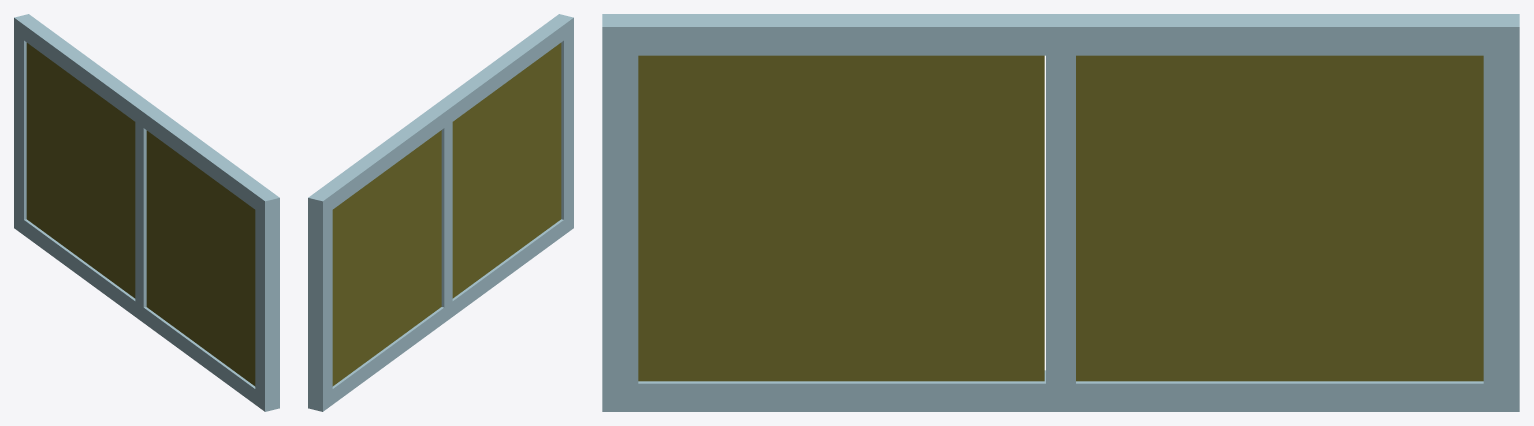
File: Bedroom_2_Window.fbx
The picture shows the model from 3 angles, left to right: view 1: azimuth 30°, elevation 25°; view 2: azimuth 150°, elevation 25°; view 3: azimuth 270°, elevation 25°; orthographic projection. The views are drawn at different scales.
Parts seen in each view (by area): view 1: Bedroom_2_Window; view 2: Bedroom_2_Window; view 3: Bedroom_2_Window.
Part boxes in pixels (bbox=[...]): Bedroom_2_Window: bbox=[14, 14, 279, 411]; Bedroom_2_Window: bbox=[308, 14, 573, 411]; Bedroom_2_Window: bbox=[602, 14, 1519, 411].
Bounding box in the file's own units: 11.96 × 163 × 352.
